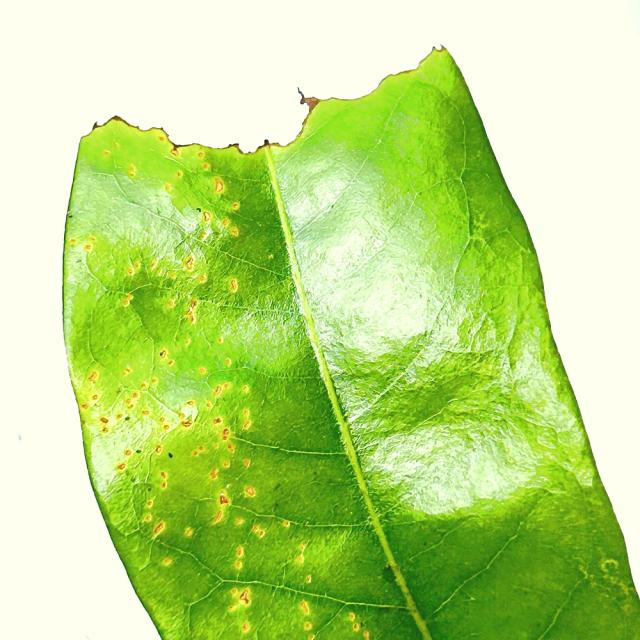Deficiency Leaf: (93, 69, 305, 150)
Lychee: (60, 46, 639, 639)
